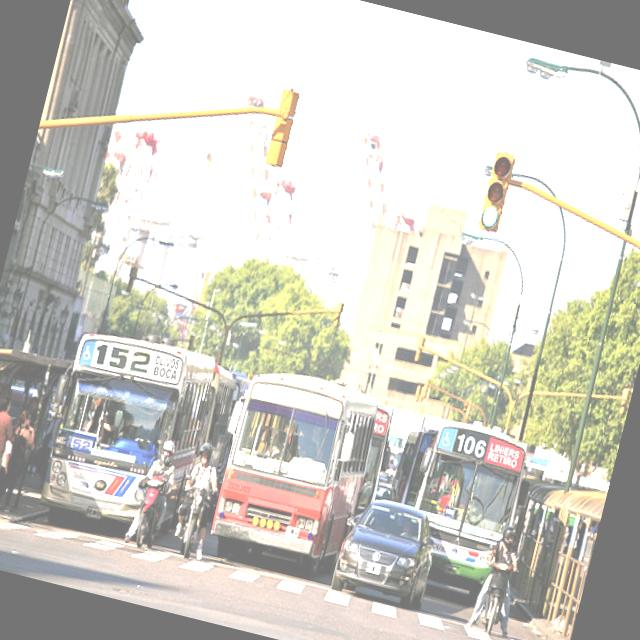Vehicle: (195, 356, 388, 590), (36, 322, 225, 540), (394, 415, 535, 605), (328, 491, 446, 614), (121, 471, 170, 554), (167, 474, 214, 558), (470, 558, 518, 636), (374, 481, 400, 503)
